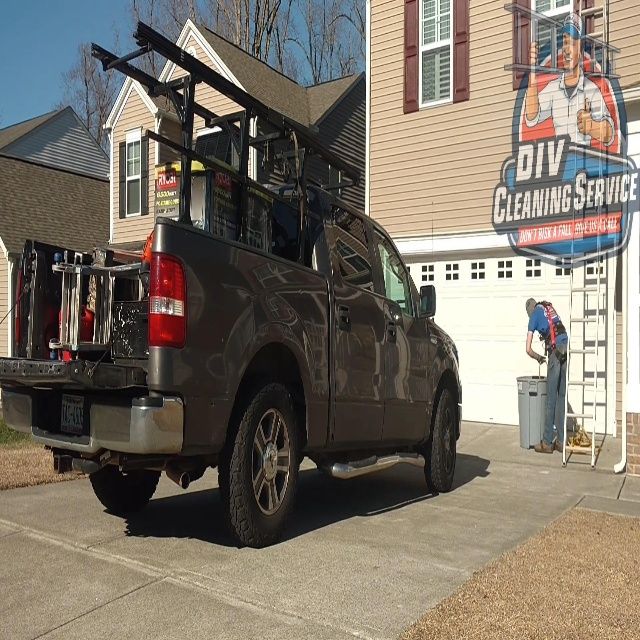Arnes_seguridad: (534, 295, 571, 366)
